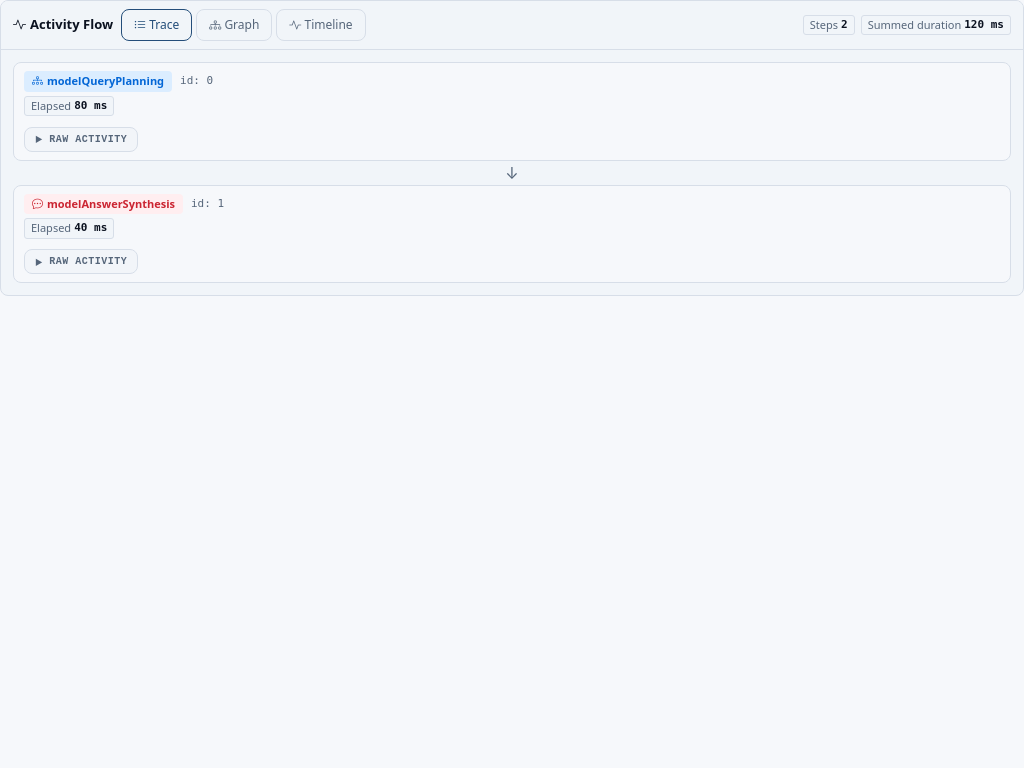
Test: AgenticActivityTrace › does not fabricate an execution axis when only elapsedMs and queryTime are recorded
What coordinates should you click on to do the following:
click the button "Timeline"
I would click on:
 (321, 25)
Its box is x1=276 y1=9 x2=366 y2=41.
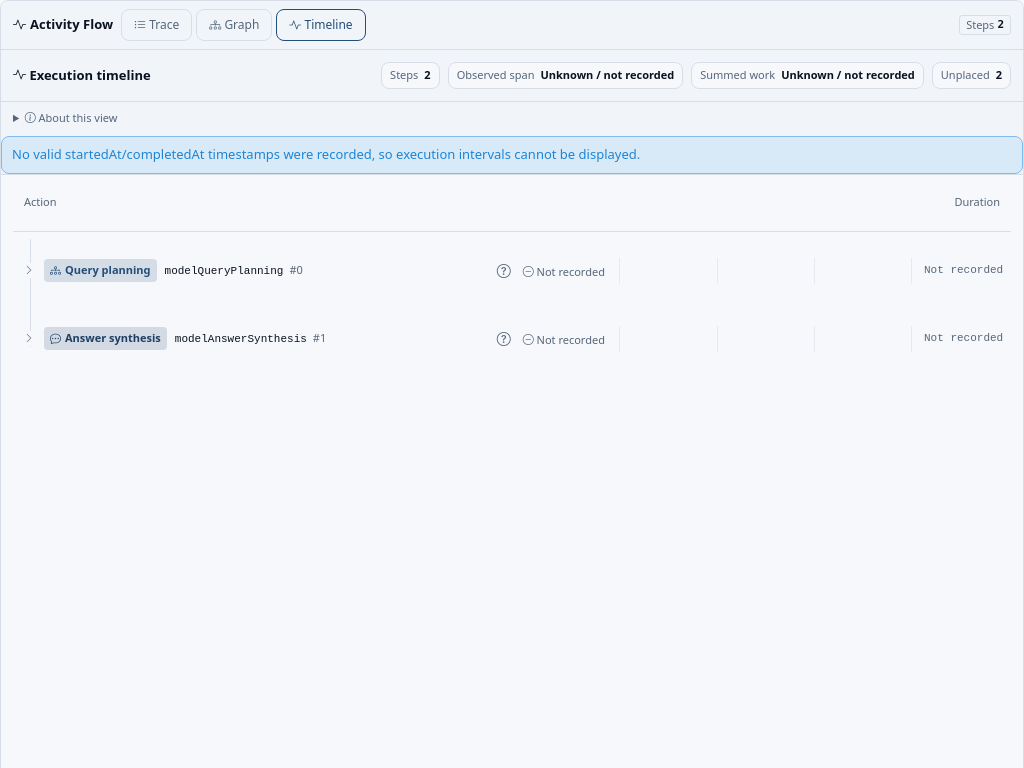
Expected: the text "No valid startedAt/completedAt timestamps were recorded, so execution intervals cannot be displayed." is shown, x1=12 y1=145 x2=640 y2=163
Expected: the text "Summed duration" is gone
